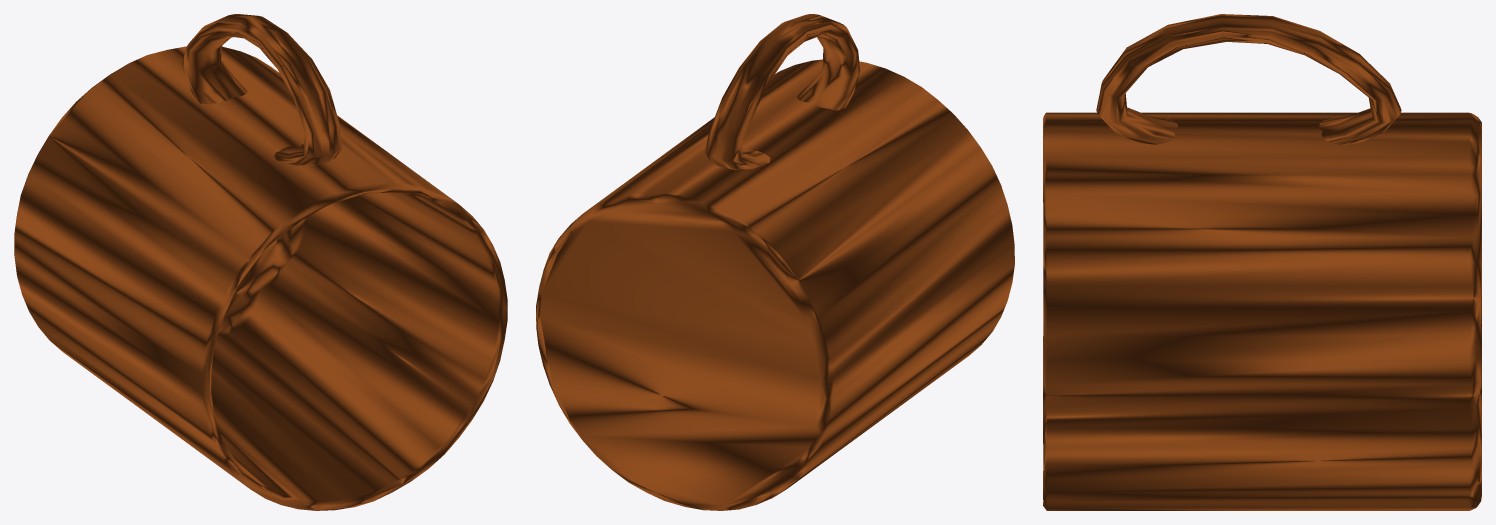
Rendered from model_align.obj.
3 renders of one model, left to right at view 1: azimuth 30°, elevation 25°; view 2: azimuth 150°, elevation 25°; view 3: azimuth 270°, elevation 25°, orthographic. The views are drawn at different scales.
Size of the model in its own units: 0.093 by 0.1222 by 0.1025.
